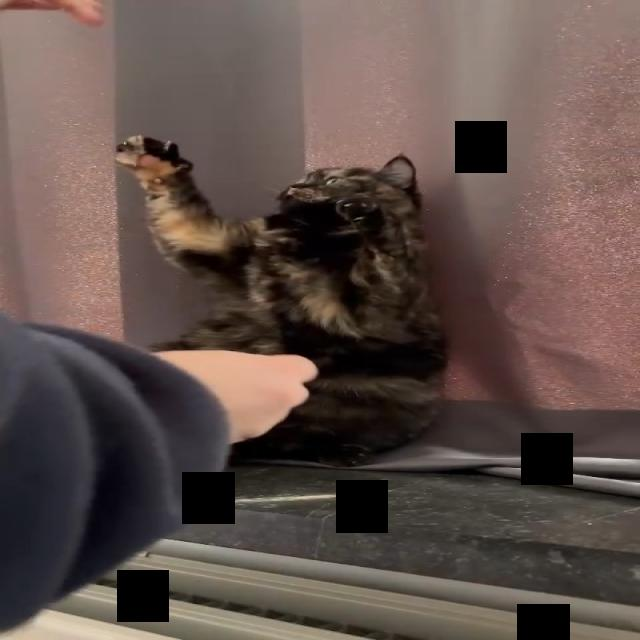authorized: (113, 134, 450, 468)
